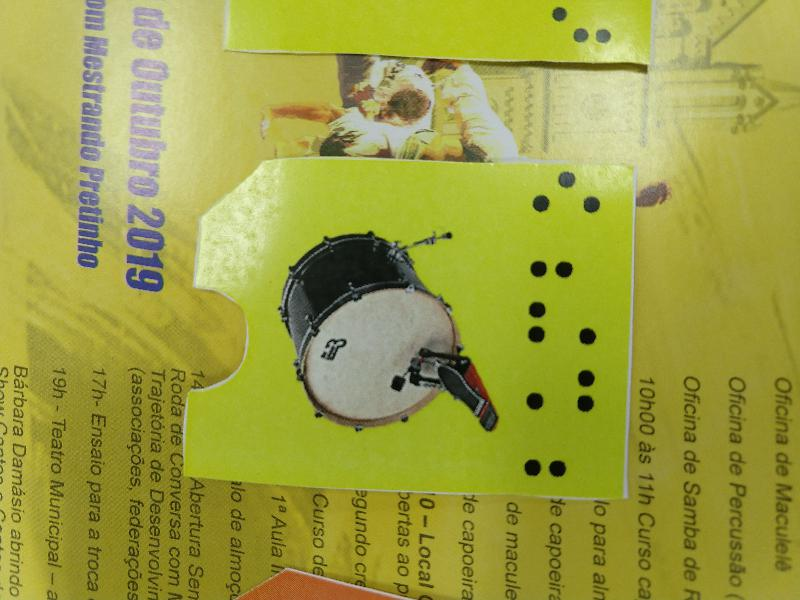bumbo: (182, 150, 635, 504)
